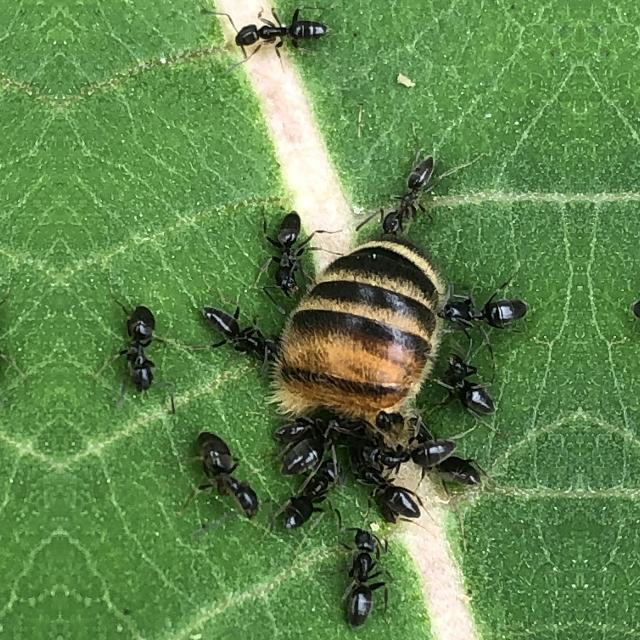Tapinoma: (379, 404, 476, 496), (185, 424, 269, 530), (366, 146, 444, 252), (194, 293, 284, 379), (427, 274, 533, 346), (255, 194, 323, 306), (106, 291, 172, 405), (274, 398, 366, 479), (222, 0, 332, 66), (332, 516, 393, 634), (432, 340, 501, 428), (274, 461, 344, 544), (363, 424, 457, 481), (350, 456, 424, 528)
